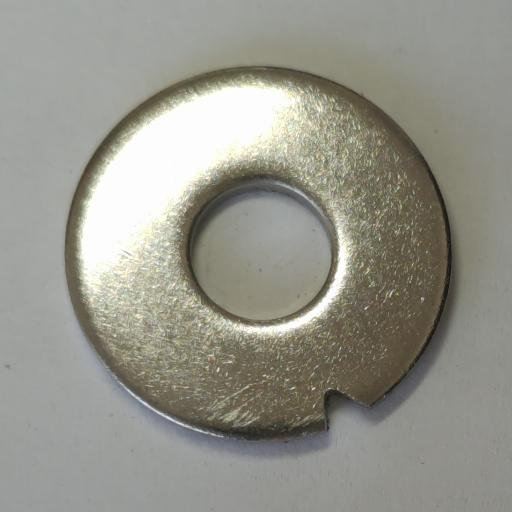burr: (323, 388, 371, 431)
